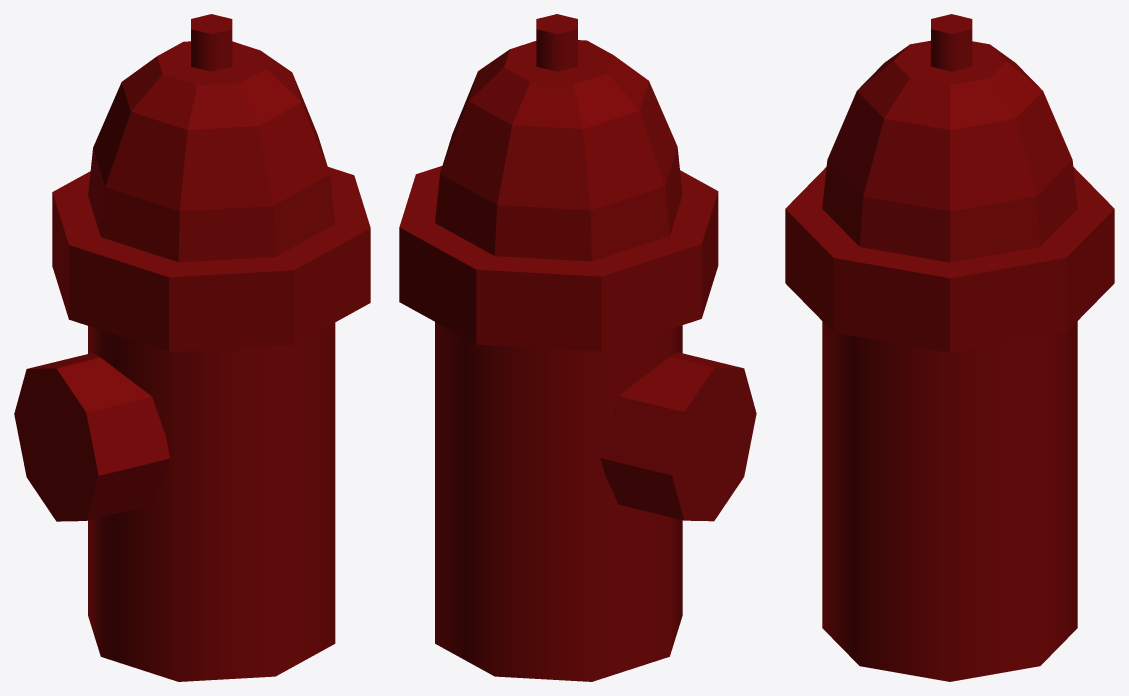
Rendered from FireHydrant.DAE.
3 renders of one model, left to right at view 1: azimuth 30°, elevation 25°; view 2: azimuth 150°, elevation 25°; view 3: azimuth 270°, elevation 25°, orthographic.
Visible parts, largest first — view 1: fireHydrant; view 2: fireHydrant; view 3: fireHydrant.
Part boxes in pixels (x1,y1,x2,y2): fireHydrant: (14,14,370,681); fireHydrant: (399,14,756,681); fireHydrant: (785,14,1114,681).
Size of the model in its own units: 0.6068 by 1.18 by 0.5814.
